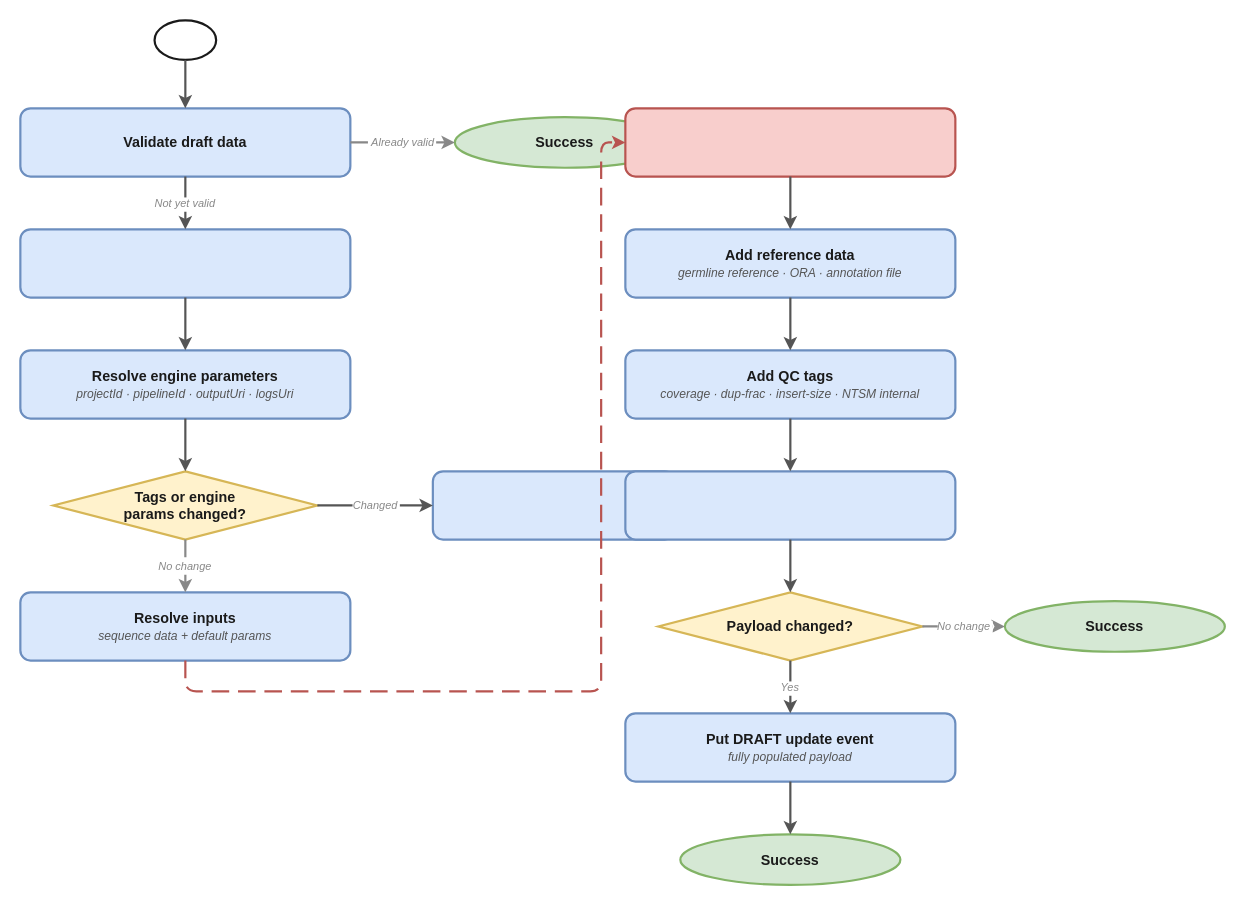
The diagram is 1244 pixels wide and 904 high, and some of its shapes have lost their labels. Each missing label, with the centre of its shape:
Compare payload generate WRU object + diff old vs new: (790,505)
Put DRAFT update event tags / params updated: (553,505)
Resolve library tags fastqRgidList · subjectId · individualId · metadata: (185,263)
Start: (185,40)
Wait for FASTQs QC + fingerprint + active readset: (790,142)
